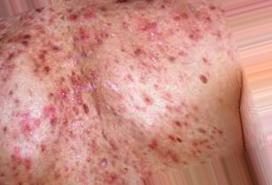Acne: (20, 80, 105, 183), (114, 112, 175, 181), (32, 10, 99, 70), (93, 6, 166, 53), (107, 59, 177, 105), (178, 109, 221, 167), (0, 93, 24, 185), (161, 2, 209, 47), (0, 12, 24, 82)
